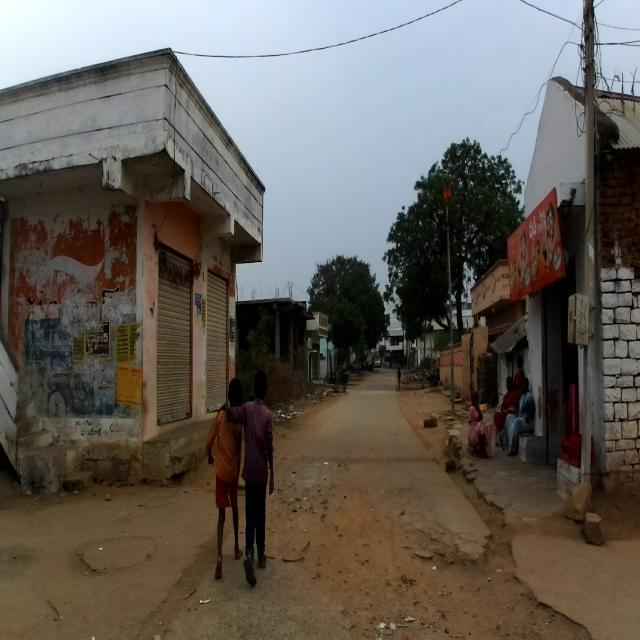Pothole: (73, 533, 157, 576)
